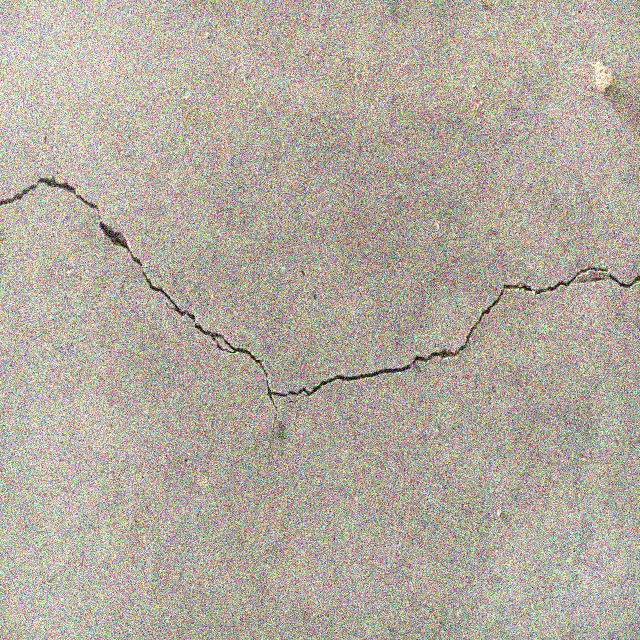SurfaceCrack: (1, 137, 640, 430)
